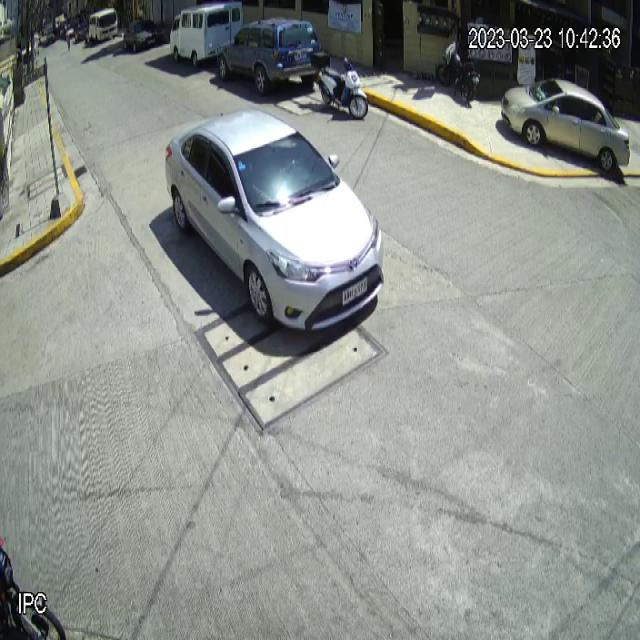Car: (164, 108, 384, 330), (500, 78, 630, 174), (217, 16, 322, 89)
Motorcycle: (310, 50, 369, 117)
Van: (169, 2, 244, 68)
